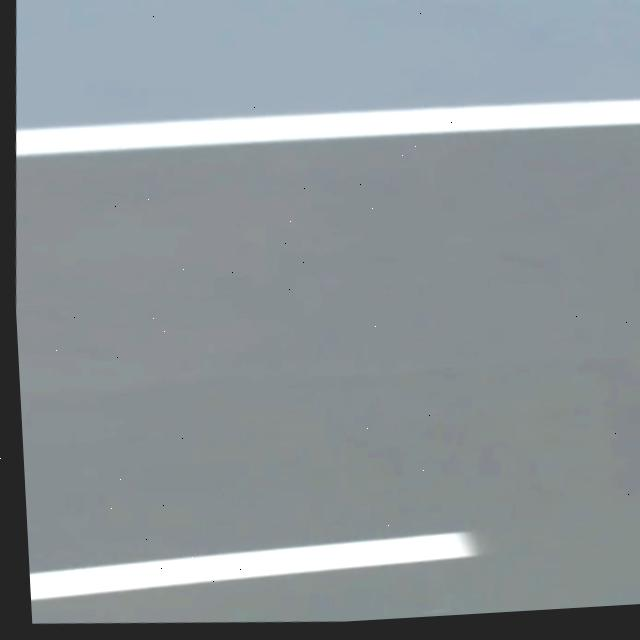center: (30, 532, 476, 598)
left: (16, 98, 640, 154)
